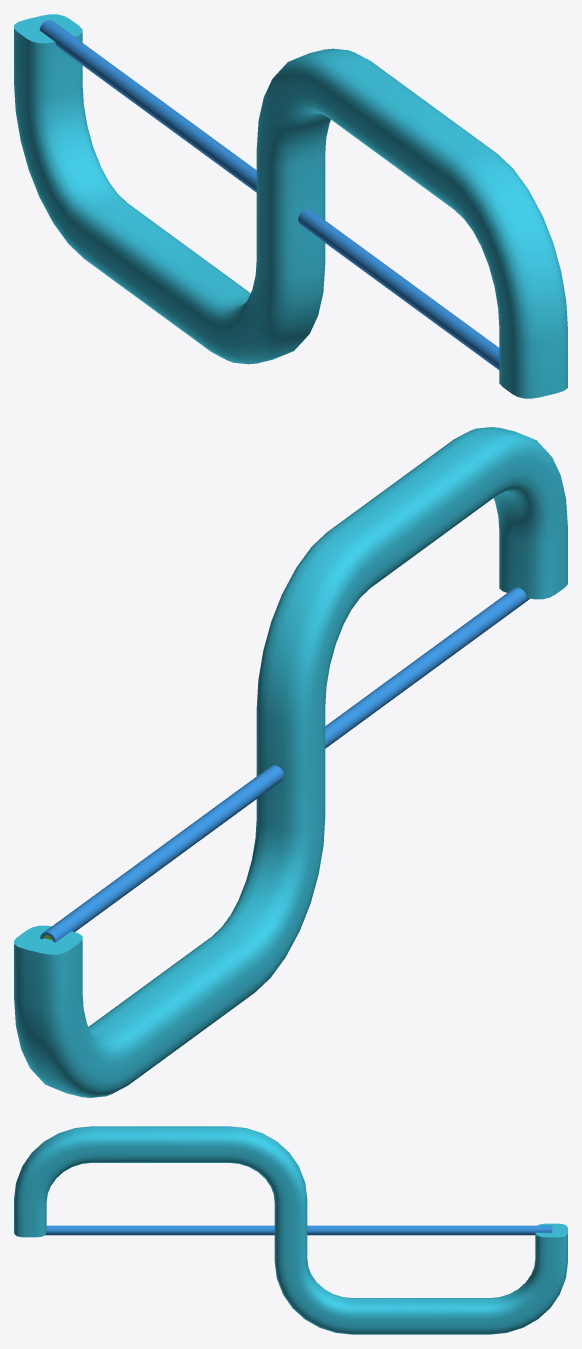
The model's file is WipeoutBar.FBX.
3 views of the same model, one above another, from view 1: azimuth 30°, elevation 25°; view 2: azimuth 150°, elevation 25°; view 3: azimuth 270°, elevation 25° (orthographic). The views are drawn at different scales.
Parts seen in each view (by area): view 1: WipeoutBar; view 2: WipeoutBar; view 3: WipeoutBar.
Part boxes in pixels (x1,y1,x2,y2): WipeoutBar: (14, 14, 567, 398); WipeoutBar: (14, 427, 567, 1097); WipeoutBar: (14, 1126, 567, 1334).
Size of the model in its own units: 39.37 by 268 by 669.
